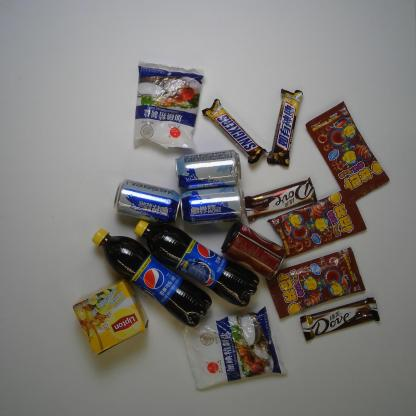Alcohol: (112, 178, 183, 226), (173, 145, 244, 189), (176, 184, 245, 228)
Candy: (308, 100, 390, 204), (264, 247, 368, 318), (269, 189, 368, 261)
Canned Food: (223, 220, 288, 280)
Chocolate: (203, 96, 267, 164), (300, 295, 386, 342), (243, 180, 318, 224), (267, 88, 302, 167)
Drink: (131, 217, 261, 308), (93, 228, 211, 323)
Instant Drink: (72, 278, 147, 356)
Seasoner: (180, 305, 290, 393), (130, 56, 205, 152)
